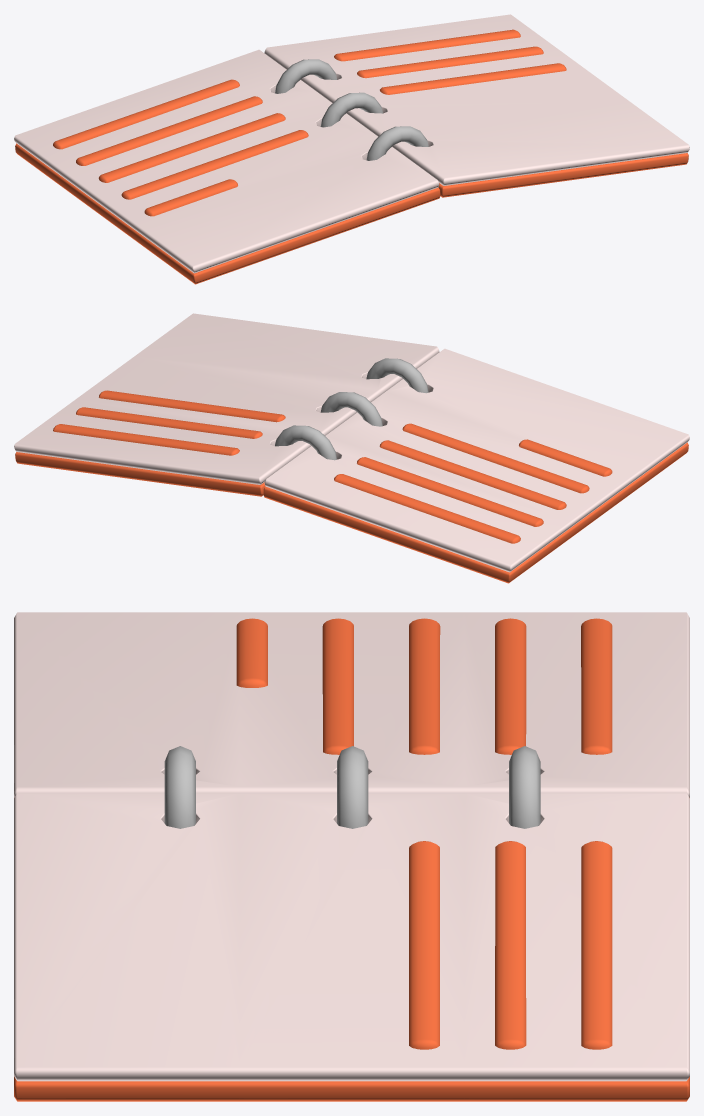
File: Public_8_Notebook_2.glb
3 views of the same model, one above another, from view 1: azimuth 30°, elevation 25°; view 2: azimuth 150°, elevation 25°; view 3: azimuth 270°, elevation 25° (orthographic). The views are drawn at different scales.
Parts seen in each view (by area): view 1: Public_8_Notebook_2; view 2: Public_8_Notebook_2; view 3: Public_8_Notebook_2.
Boxes of the visible parts, left/top/right/bottom form: Public_8_Notebook_2: left=14, top=14, right=689, bottom=284; Public_8_Notebook_2: left=14, top=313, right=689, bottom=583; Public_8_Notebook_2: left=14, top=612, right=689, bottom=1101.
Bounding box in the file's own units: 2.16 × 0.2747 × 1.35.
Materials: 1 (1 with a texture image).
